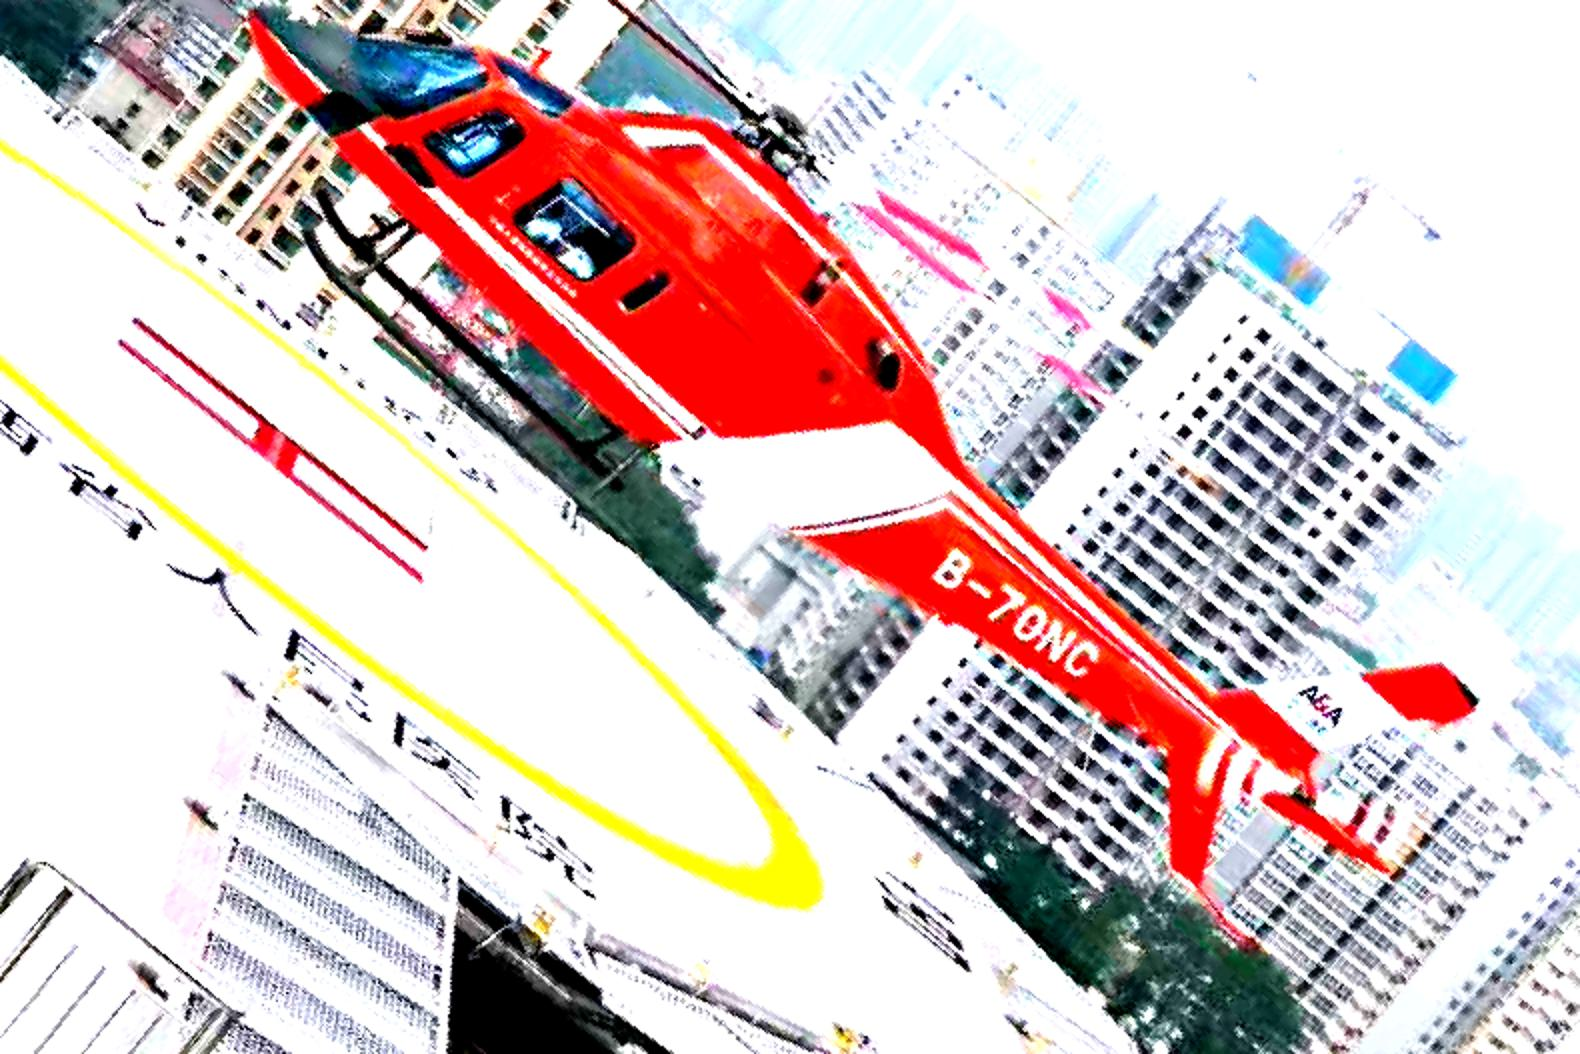Apron: (1, 121, 846, 947)
